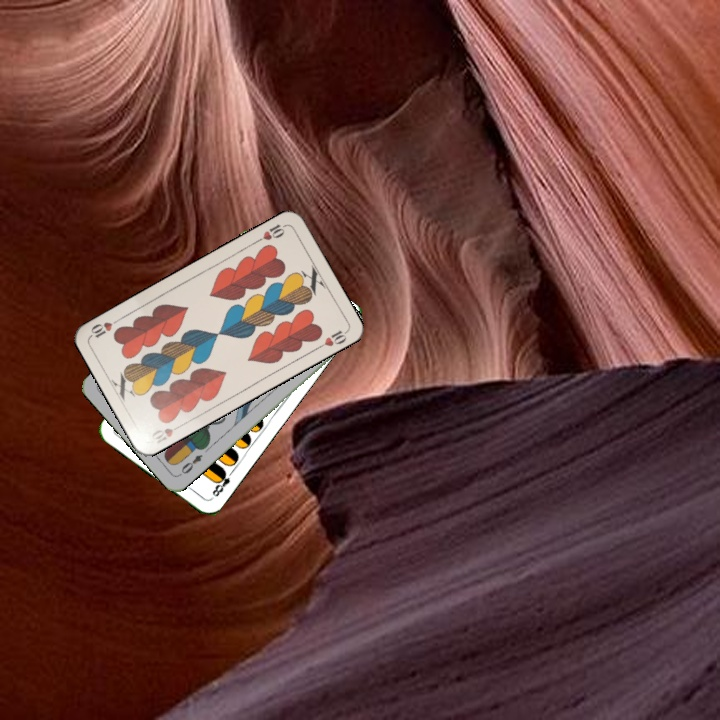E8: (208, 466, 236, 499)
EO: (177, 450, 205, 476)
H10: (147, 420, 185, 446), (251, 220, 289, 245)
